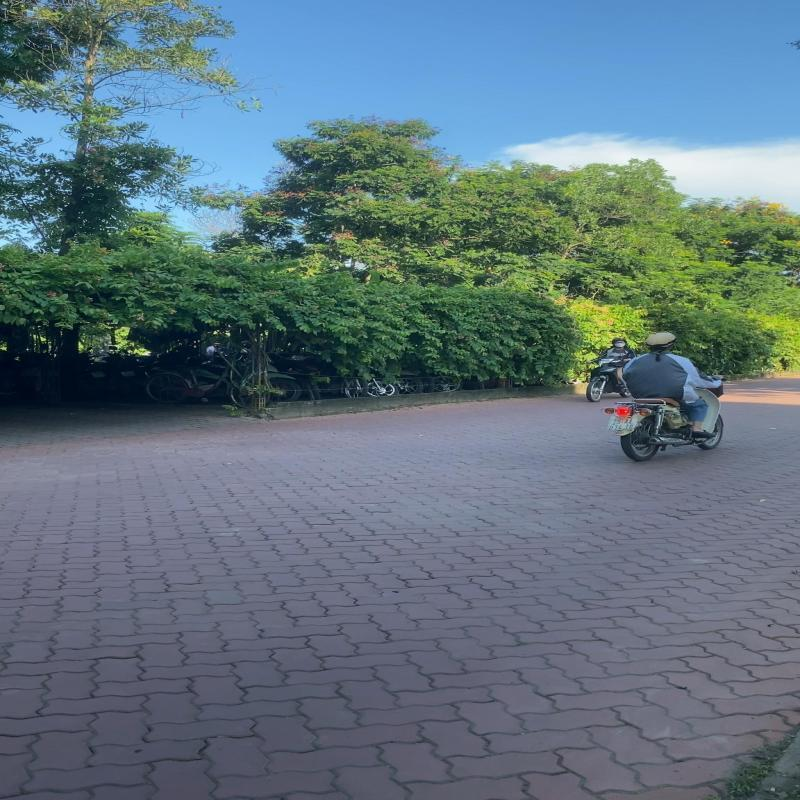helmet: (644, 331, 680, 352)
licenseplate: (606, 416, 640, 431)
motorcyclist: (599, 331, 728, 464)
